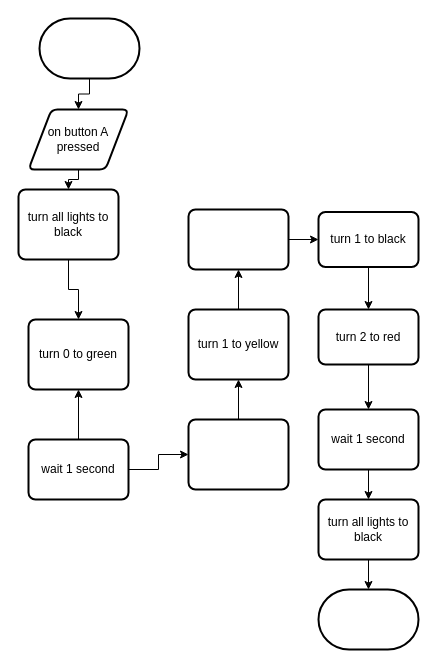
Image size: 436x667. Some labels were removed from this diagram. The box of each missing label's shape, as (x1, y1, x2, y2) in pixels:
Start: (38, 17, 140, 79)
Stop: (317, 588, 419, 650)
turn 0 to black: (187, 418, 289, 490)
wait 0.5 seconds: (187, 208, 289, 270)
